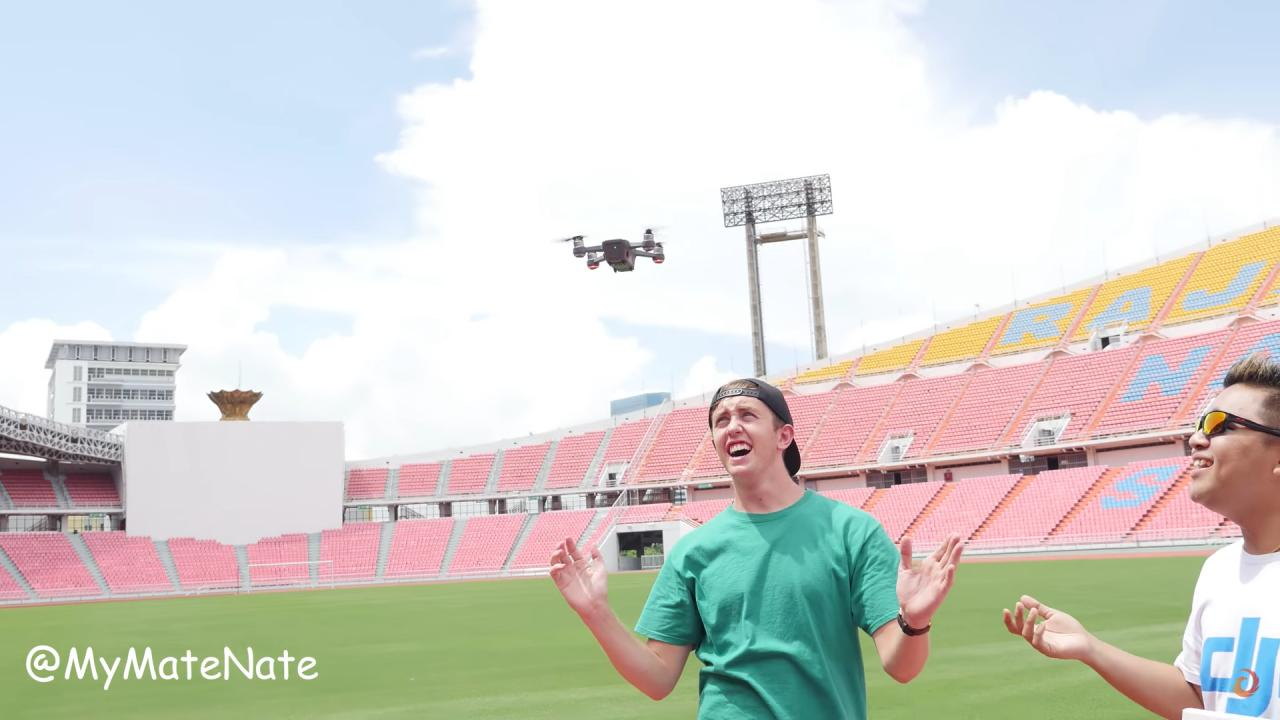Drone: (540, 207, 688, 293)
